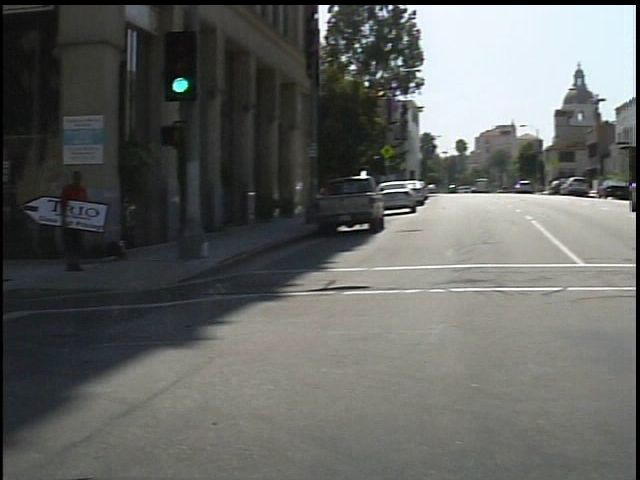person: (48, 159, 101, 280)
